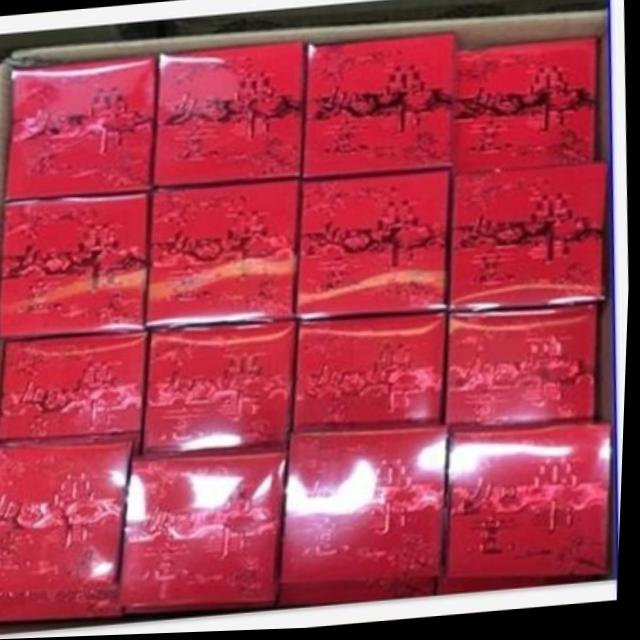box: (448, 423, 616, 578), (286, 431, 455, 581), (124, 454, 293, 604), (452, 165, 610, 317), (297, 174, 456, 321), (153, 41, 308, 190), (146, 184, 302, 332), (303, 36, 458, 184), (4, 55, 159, 202), (0, 192, 153, 340), (0, 441, 136, 607), (146, 322, 300, 455), (457, 38, 597, 174), (448, 309, 599, 431), (294, 317, 450, 435), (0, 330, 155, 441), (286, 580, 440, 607), (438, 576, 616, 599)
